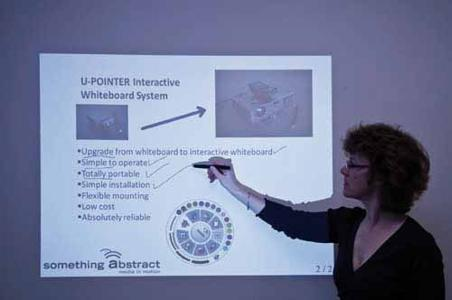person: (206, 122, 445, 300)
